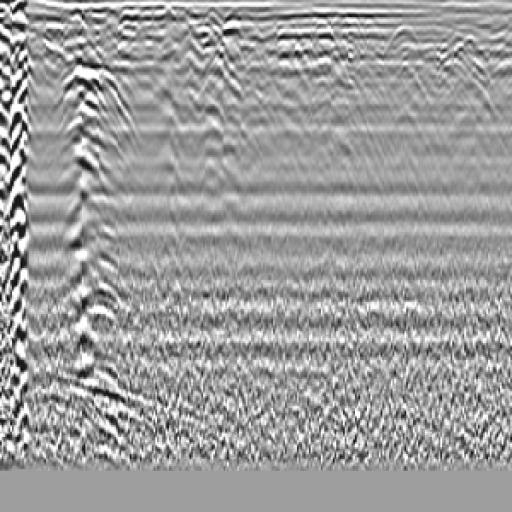metalic: (160, 34, 268, 181)
